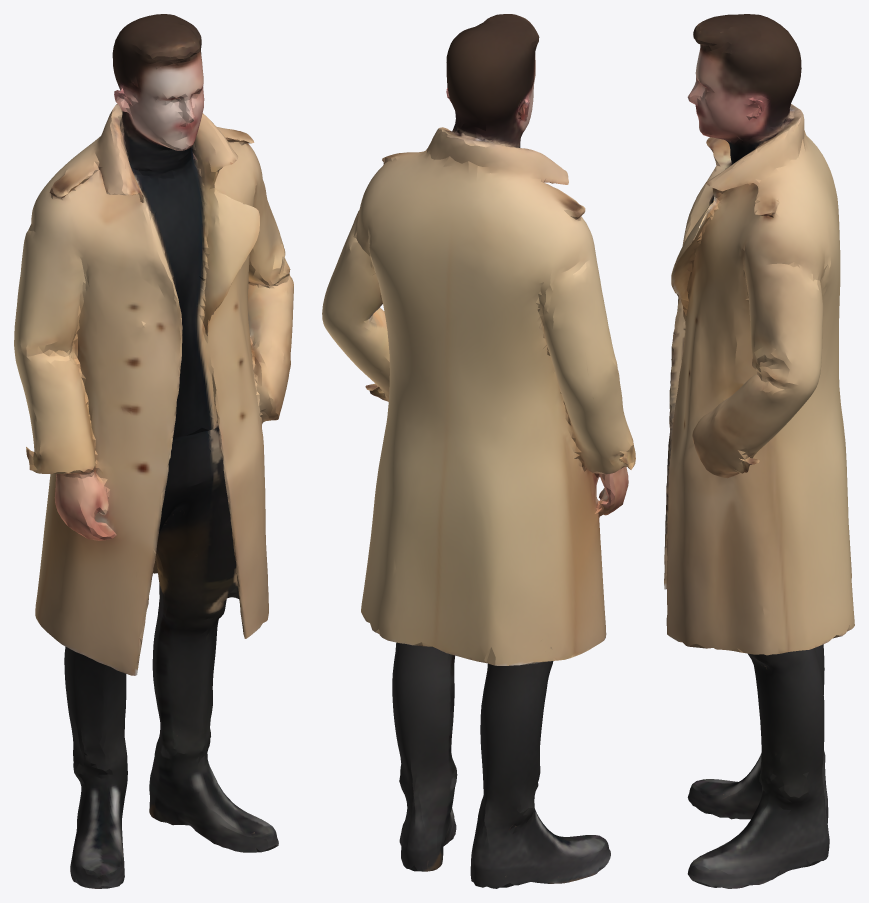
File: autumn_upgraded.glb
The picture shows the model from 3 angles, left to right: view 1: azimuth 30°, elevation 25°; view 2: azimuth 150°, elevation 25°; view 3: azimuth 270°, elevation 25°; orthographic projection.
Visible parts, largest first — view 1: autumn_upgraded; view 2: autumn_upgraded; view 3: autumn_upgraded.
Part boxes in pixels (left/top/right/bottom): autumn_upgraded: left=14, top=14, right=293, bottom=888; autumn_upgraded: left=322, top=14, right=635, bottom=888; autumn_upgraded: left=664, top=14, right=854, bottom=888.
Size of the model in its own units: 0.6726 by 1.9 by 0.3997.
1 material, 1 textured.
